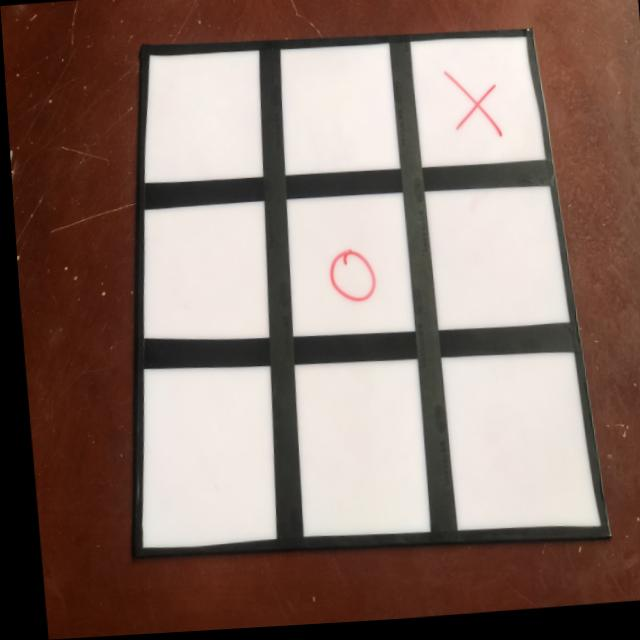null: (126, 361, 277, 556), (433, 352, 583, 536), (279, 361, 428, 542), (130, 196, 273, 345), (424, 189, 556, 338), (134, 49, 269, 190), (273, 48, 395, 185)
o: (318, 245, 374, 319)
table: (126, 37, 598, 546)
x: (442, 76, 501, 148)
